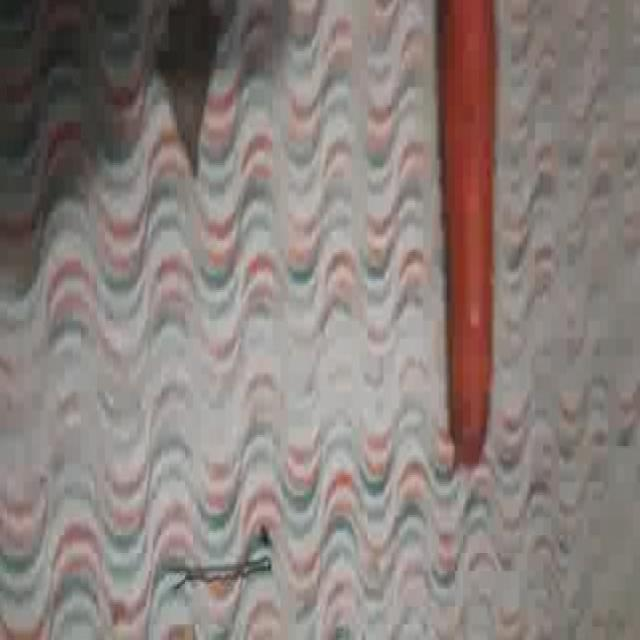carrot: (439, 0, 494, 464)
